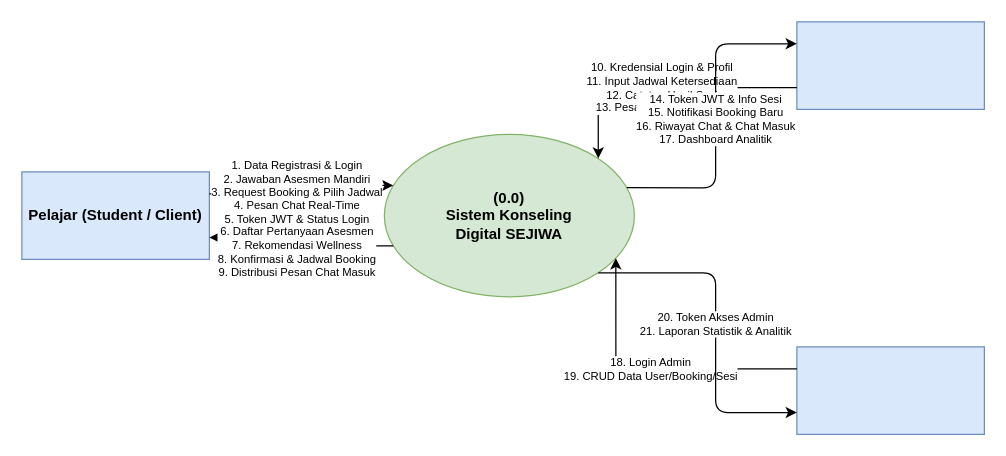
The diagram is 1006 pixels wide and 456 high, and some of its shapes have lost their labels. The shapes that lost their labels are listed below. From the top down, each one's centre as x and y in pixels, then its label:
At [890,65]: "Konselor (Counselor)".
At [890,390]: "Admin".
